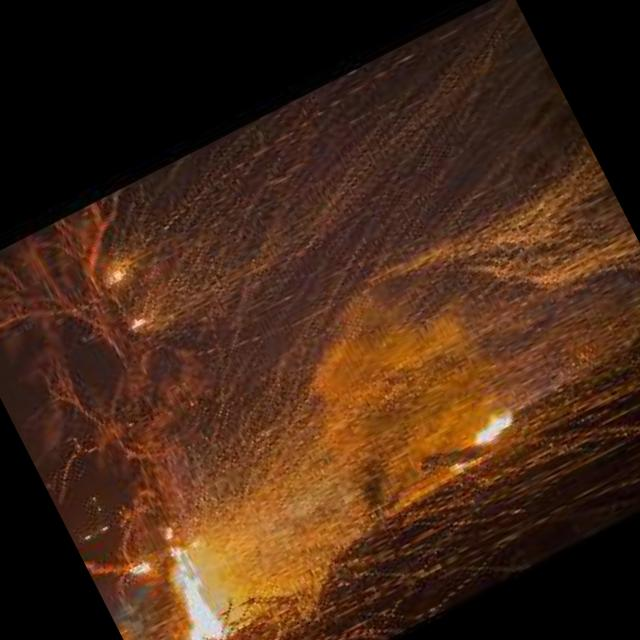fire: (110, 523, 251, 640), (429, 396, 542, 485)
